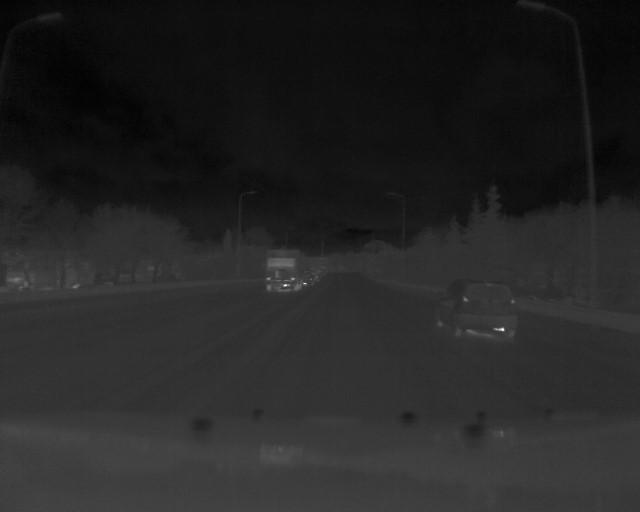car: (430, 274, 520, 345), (261, 244, 307, 295)
